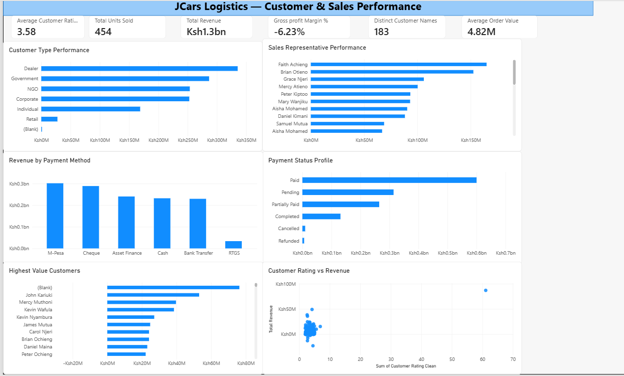

The dashboard page shown, as its layout file describes it:
{"tool":"powerbi","page":{"name":"Customers & Sales Performance","canvas":[1920,1080],"ordinal":2},"visuals":[{"type":"cardVisual","fields":{"Data":["Fact_Sales.Total Units Sold"]},"box":[244.3,57.1,220,65.7],"z":0},{"type":"cardVisual","fields":{"Data":["Fact_Sales.Gross profit Margin %"]},"box":[754.3,57.1,235.7,65.7],"z":1000},{"type":"cardVisual","fields":{"Data":["Fact_Sales.Total Revenue"]},"box":[505.7,57.1,205.7,65.7],"z":2000},{"type":"shape","box":[0,0,1681.2,57.5],"z":3000},{"type":"cardVisual","fields":{"Data":["Fact_Sales.Distinct Customer Names"]},"box":[1040,57.1,221.4,65.7],"z":4000},{"type":"cardVisual","fields":{"Data":["Fact_Sales.Average Order Value"]},"box":[1305.7,57.1,217.1,65.7],"z":5000},{"type":"cardVisual","fields":{"Data":["Fact_Sales.Average Customer Rating"]},"box":[22.9,57.1,210,65.7],"z":6000},{"type":"clusteredBarChart","title":"Sales Representative Performance","fields":{"Category":["Fact_Sales.Sales Rep Clean"],"Y":["Fact_Sales.Total Revenue"]},"box":[738.6,122.9,738.6,321.4],"z":7000},{"type":"clusteredBarChart","title":"Payment Status Profile","fields":{"Category":["Fact_Sales.Payment Status Clean"],"Y":["Fact_Sales.Total Revenue"]},"box":[738.6,444.3,738.6,321.4],"z":8000},{"type":"clusteredColumnChart","title":"Revenue by Payment Method","fields":{"Category":["Fact_Sales.Payment Method Clean"],"Y":["Fact_Sales.Total Revenue"]},"box":[0,444.3,741.4,321.4],"z":9000},{"type":"clusteredBarChart","title":"Highest Value Customers","fields":{"Category":["Fact_Sales.Customer Name Clean"],"Y":["Fact_Sales.Total Revenue"]},"box":[0,758.6,741.4,321.4],"z":10000},{"type":"scatterChart","title":"Customer Rating vs Revenue","fields":{"Category":["Fact_Sales.Order ID Clean"],"X":["Sum(Fact_Sales.Customer Rating Clean)"],"Y":["Fact_Sales.Total Revenue"]},"box":[738.6,758.6,738.6,321.4],"z":11000},{"type":"clusteredBarChart","title":"Customer Type Performance","fields":{"Category":["Fact_Sales.Customer Type Clean"],"Y":["Fact_Sales.Total Revenue"]},"box":[0,130,738.6,314.3],"z":12000}]}

Visuals, with their boxes on the page's 1920x1080 design canvas (x1, y1, x2, y2). These are canvas units, not pixel positions in the 624x376 screenshot, which may show the page scaled, cropped or inside an application window:
cardVisual - Fact_Sales.Total Units Sold: x1=244, y1=57, x2=464, y2=123
cardVisual - Fact_Sales.Gross profit Margin %: x1=754, y1=57, x2=990, y2=123
cardVisual - Fact_Sales.Total Revenue: x1=506, y1=57, x2=711, y2=123
shape: x1=0, y1=0, x2=1681, y2=58
cardVisual - Fact_Sales.Distinct Customer Names: x1=1040, y1=57, x2=1261, y2=123
cardVisual - Fact_Sales.Average Order Value: x1=1306, y1=57, x2=1523, y2=123
cardVisual - Fact_Sales.Average Customer Rating: x1=23, y1=57, x2=233, y2=123
"Sales Representative Performance" clusteredBarChart: x1=739, y1=123, x2=1477, y2=444
"Payment Status Profile" clusteredBarChart: x1=739, y1=444, x2=1477, y2=766
"Revenue by Payment Method" clusteredColumnChart: x1=0, y1=444, x2=741, y2=766
"Highest Value Customers" clusteredBarChart: x1=0, y1=759, x2=741, y2=1080
"Customer Rating vs Revenue" scatterChart: x1=739, y1=759, x2=1477, y2=1080
"Customer Type Performance" clusteredBarChart: x1=0, y1=130, x2=739, y2=444
